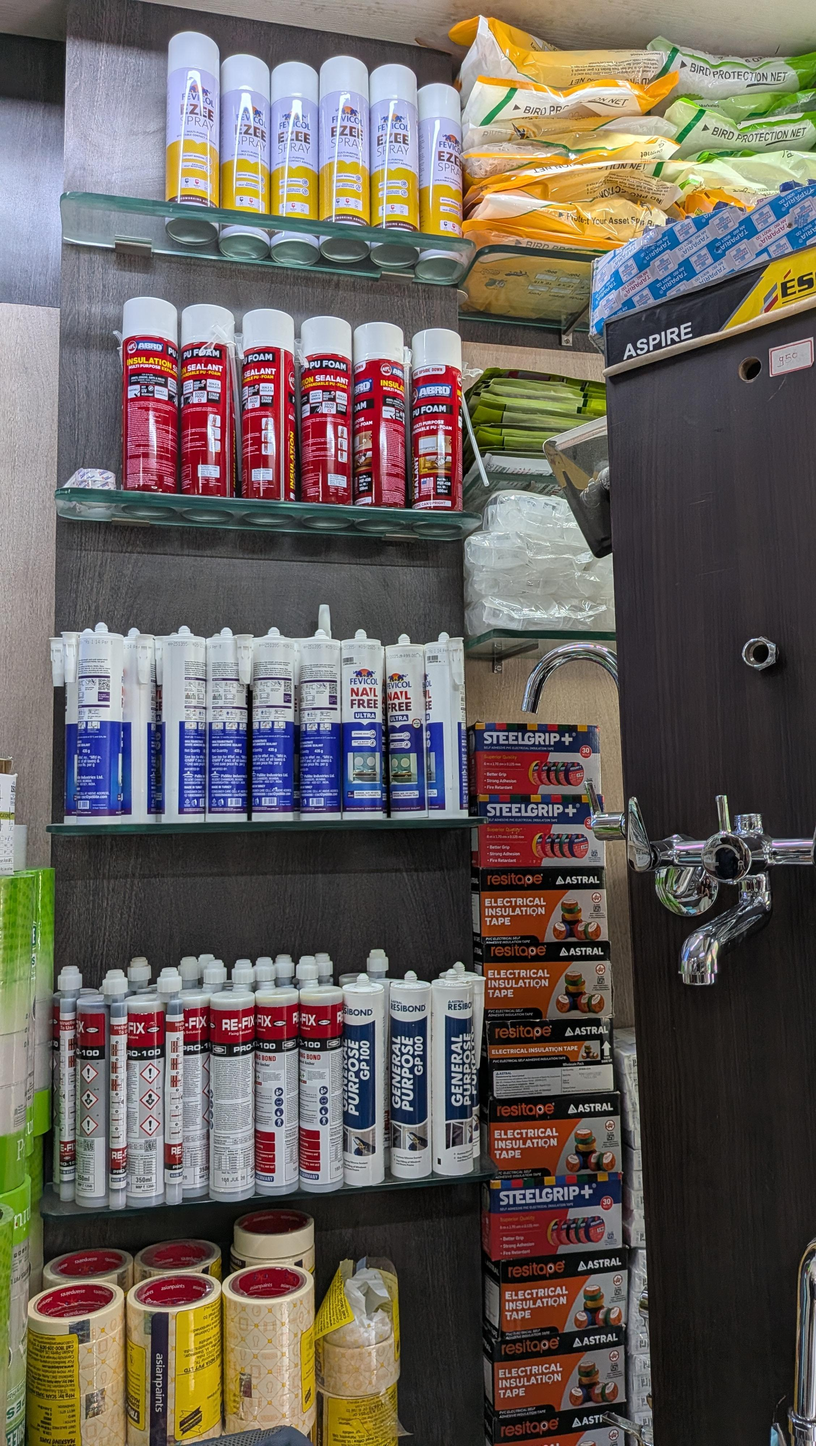RESIBOND_GENERAL PURPOSE GP 100: (343, 974, 385, 1186), (431, 973, 475, 1175), (389, 973, 431, 1177)
